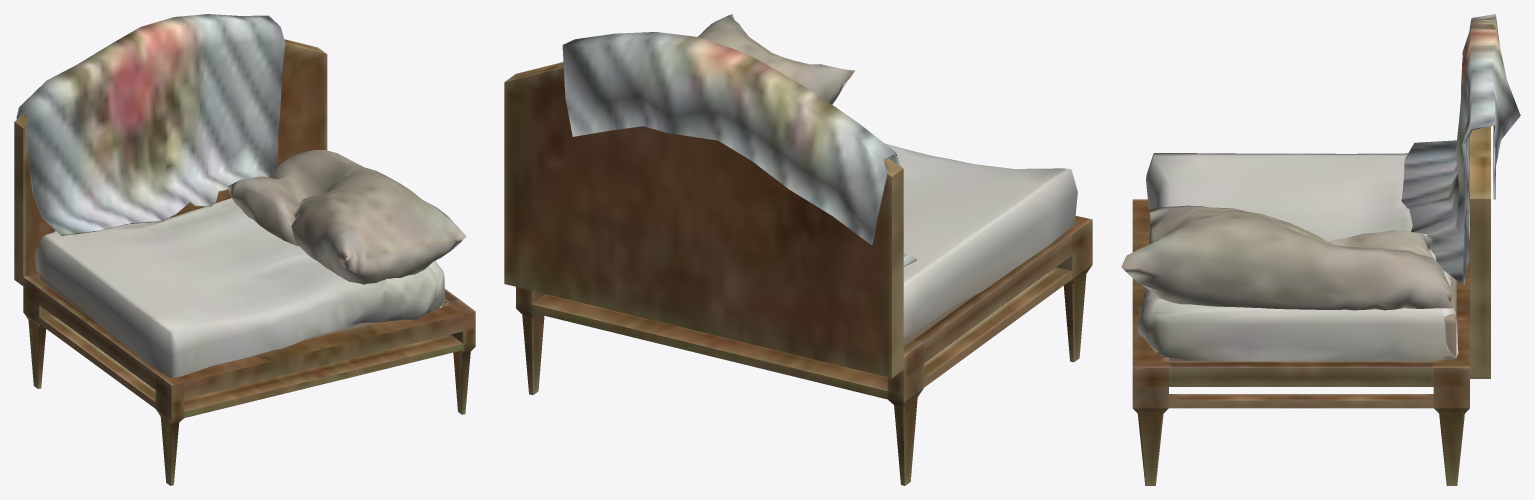
File: ph-vintage-day-bed.glb
3 renders of one model, left to right at view 1: azimuth 30°, elevation 25°; view 2: azimuth 150°, elevation 25°; view 3: azimuth 270°, elevation 25°, orthographic. The views are drawn at different scales.
Parts seen in each view (by area): view 1: vintage_day_bed; view 2: vintage_day_bed; view 3: vintage_day_bed.
Part boxes in pixels (x1,y1,x2,y2): vintage_day_bed: (14,14,475,485); vintage_day_bed: (504,14,1092,485); vintage_day_bed: (1121,14,1520,485).
Bounding box in the file's own units: 1 × 1 × 1.
Materials: 1 (1 with a texture image).
